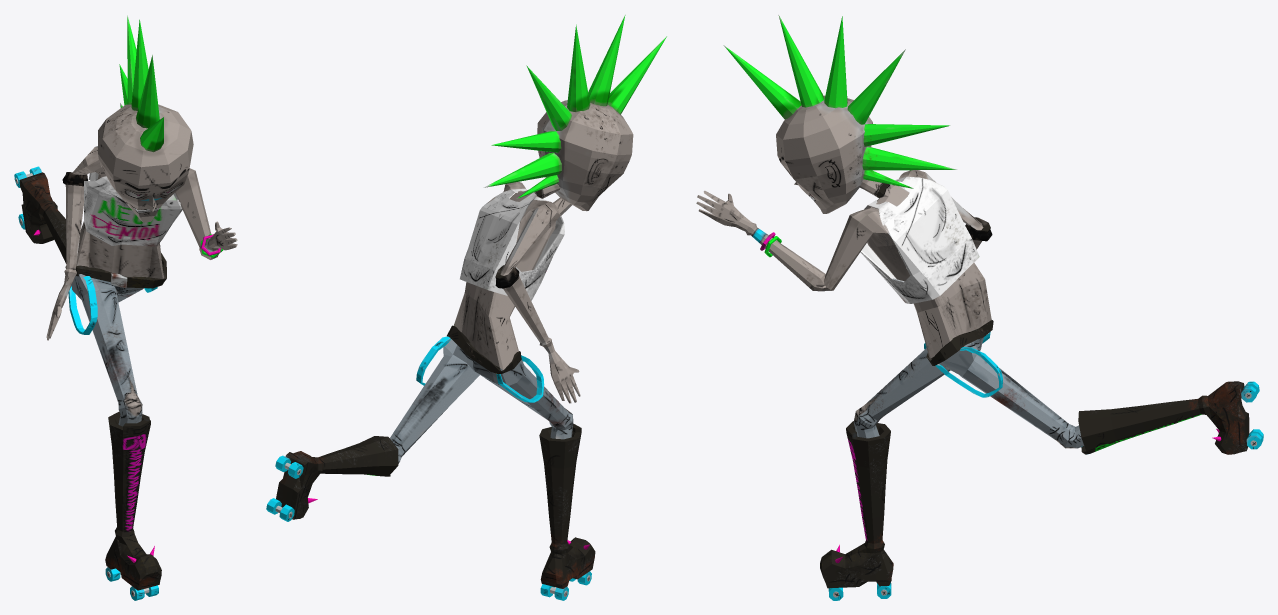
Rendered from punkAnimation_000039.obj.
3 renders of one model, left to right at view 1: azimuth 30°, elevation 25°; view 2: azimuth 150°, elevation 25°; view 3: azimuth 270°, elevation 25°, orthographic. The views are drawn at different scales.
Visible parts, largest first — view 1: Cube.004_Cube.003; view 2: Cube.004_Cube.003; view 3: Cube.004_Cube.003.
Boxes of the visible parts, bbox=[...] form: Cube.004_Cube.003: bbox=[14, 15, 237, 600]; Cube.004_Cube.003: bbox=[266, 15, 666, 600]; Cube.004_Cube.003: bbox=[696, 15, 1263, 600].
Bounding box in the file's own units: 1.92 × 6.67 × 5.91.
